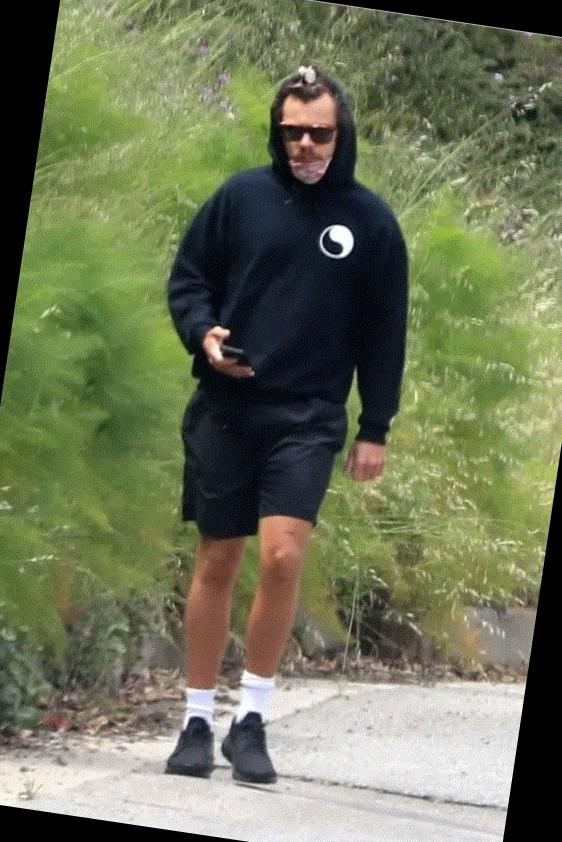mask_weared_incorrect: (275, 108, 341, 181)
